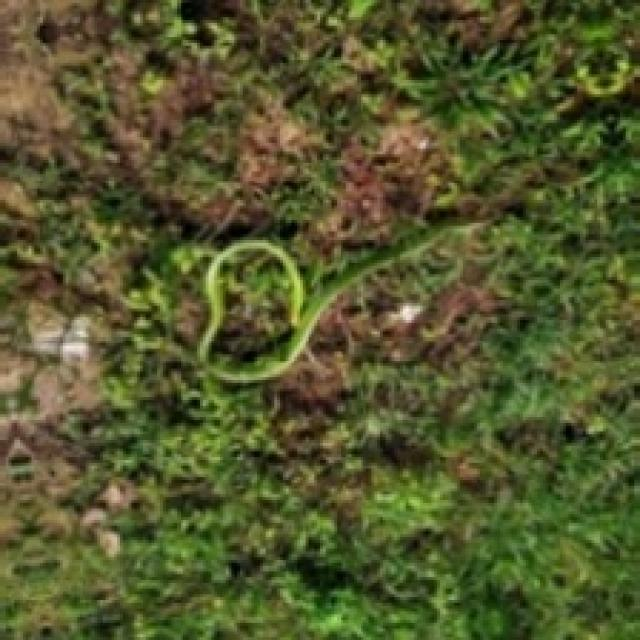red-tailed green ratsnake: (192, 218, 488, 384), (196, 239, 428, 383)
